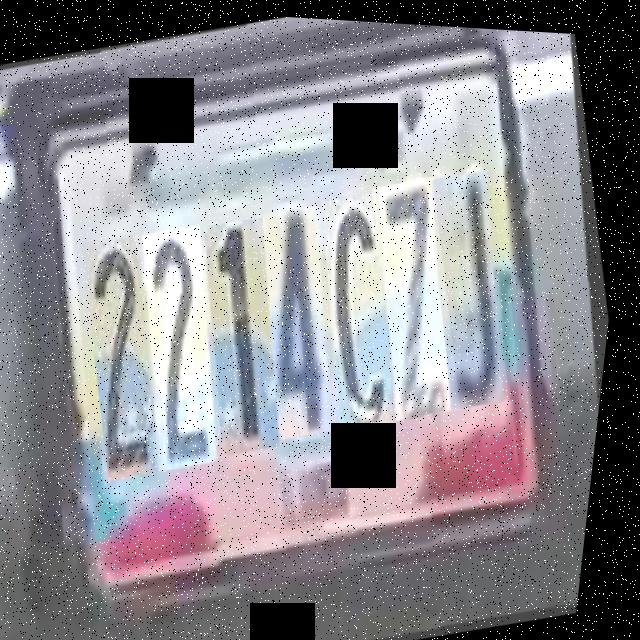1: (183, 207, 320, 452)
2: (121, 217, 258, 467), (66, 227, 200, 478)
4: (241, 197, 372, 437)
C: (299, 183, 434, 428)
J: (410, 161, 546, 406)
Z: (356, 168, 491, 416)
